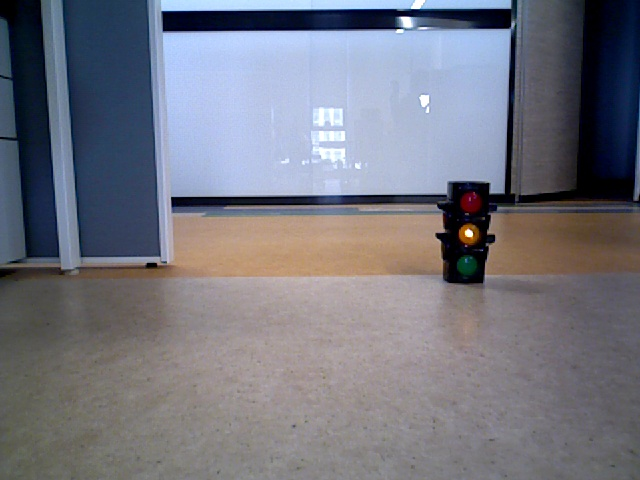yellow: (451, 187, 484, 282)
